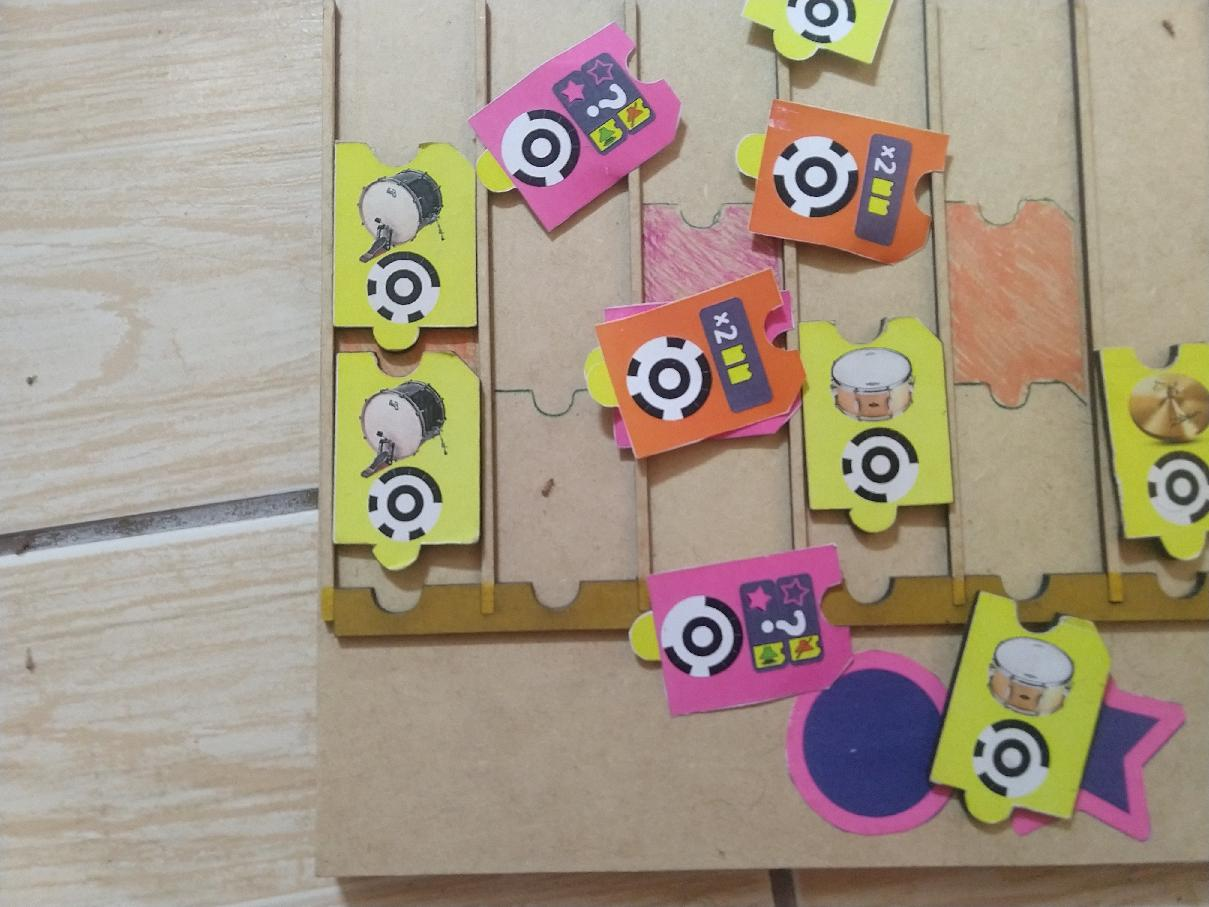bumbo: (336, 350, 488, 575), (328, 132, 481, 350)
